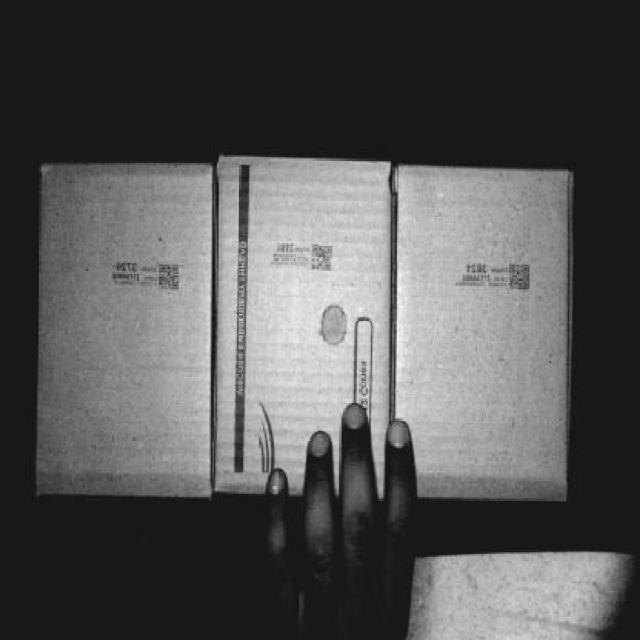cardboxes: (390, 209, 552, 526), (227, 203, 385, 528), (57, 206, 208, 520)
